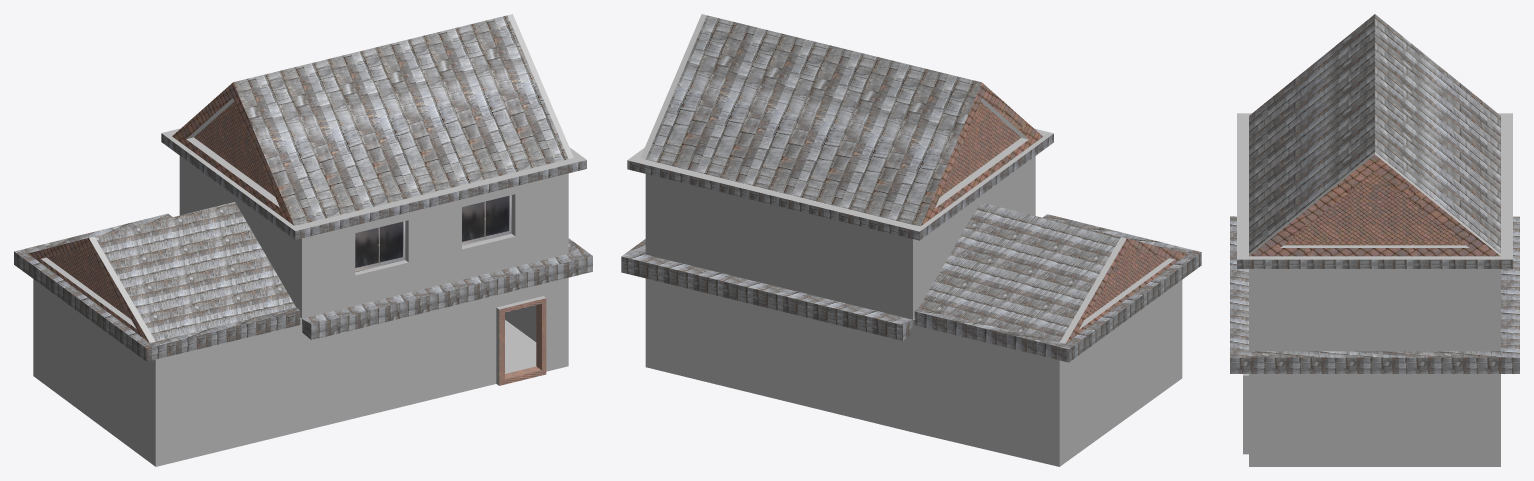
The model's file is house.fbx.
The picture shows the model from 3 angles, left to right: view 1: azimuth 30°, elevation 25°; view 2: azimuth 150°, elevation 25°; view 3: azimuth 270°, elevation 25°; orthographic projection. The views are drawn at different scales.
Parts seen in each view (by area): view 1: House; view 2: House; view 3: House.
Part boxes in pixels (<box>): House: <box>14,14,592,466</box>; House: <box>621,14,1201,466</box>; House: <box>1230,14,1519,466</box>.
Size of the model in its own units: 2485 by 1644 by 1371.
